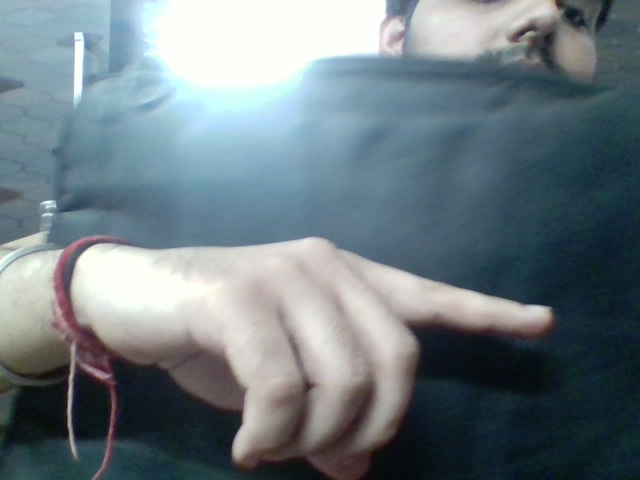p: (154, 215, 567, 469)
